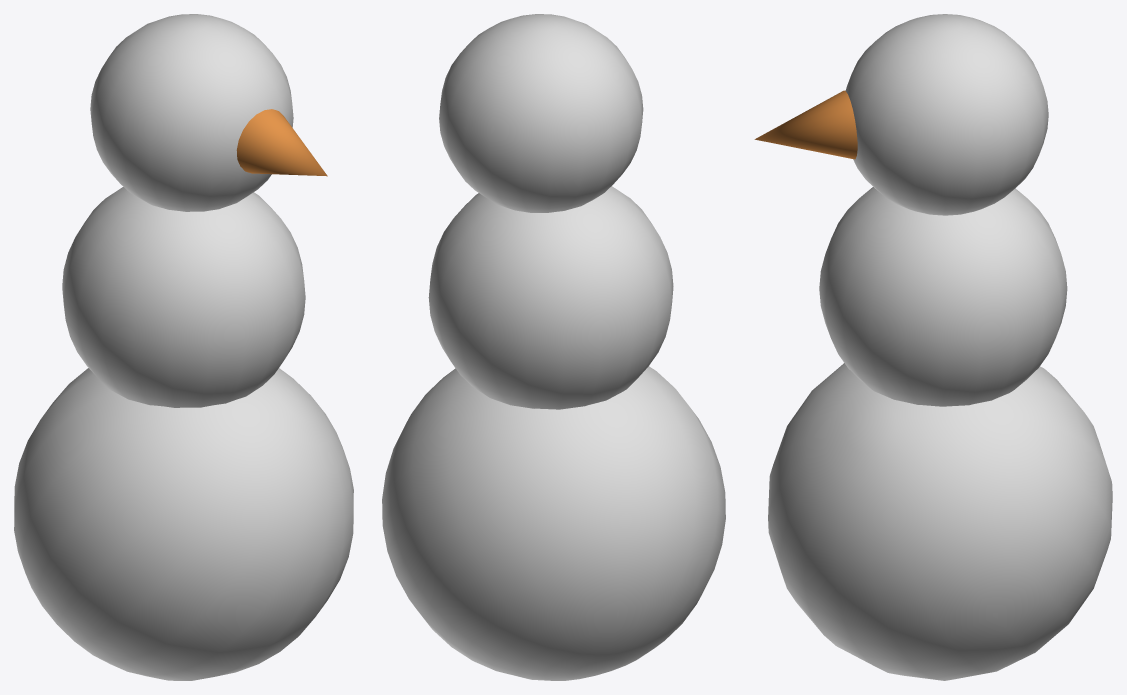
The model's file is snowemie.fbx.
3 views of the same model, side by side, from view 1: azimuth 30°, elevation 25°; view 2: azimuth 150°, elevation 25°; view 3: azimuth 270°, elevation 25° (orthographic).
Visible parts, largest first — view 1: pSphere5; view 2: pSphere5; view 3: pSphere5.
Part boxes in pixels (x1,y1,x2,y2): pSphere5: (14, 14, 353, 680); pSphere5: (382, 14, 725, 680); pSphere5: (754, 14, 1112, 680).
Bounding box in the file's own units: 1.98 × 4.1 × 2.06.
